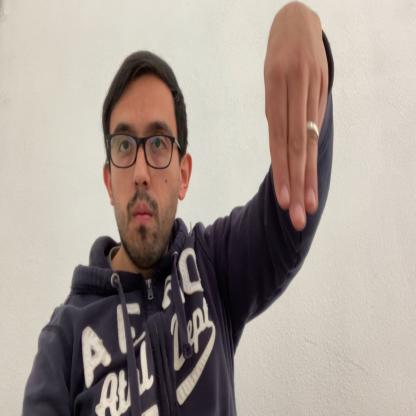M: (263, 4, 330, 233)
